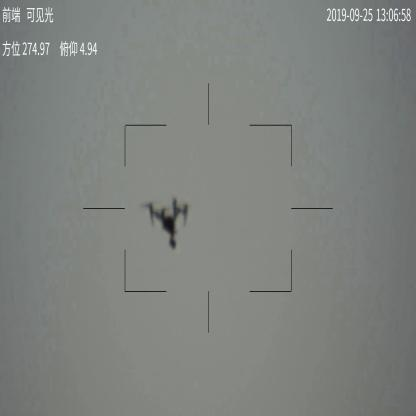uav: (143, 194, 192, 248)
